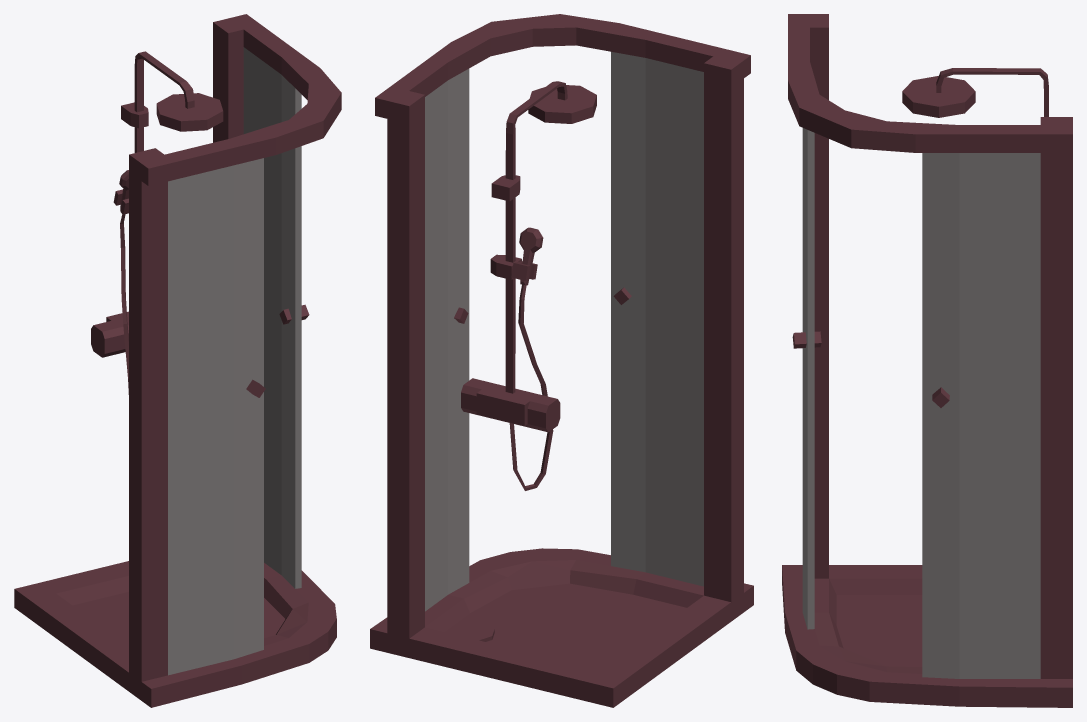
The model's file is shower-enclosure-curved-open.fbx.
3 renders of one model, left to right at view 1: azimuth 30°, elevation 25°; view 2: azimuth 150°, elevation 25°; view 3: azimuth 270°, elevation 25°, orthographic. The views are drawn at different scales.
Parts seen in each view (by area): view 1: shower-enclosure-curved-open; view 2: shower-enclosure-curved-open; view 3: shower-enclosure-curved-open.
Boxes of the visible parts, x1=… form: shower-enclosure-curved-open: x1=14, y1=14, x2=341, y2=707; shower-enclosure-curved-open: x1=370, y1=14, x2=753, y2=707; shower-enclosure-curved-open: x1=782, y1=14, x2=1072, y2=707.
Size of the model in its own units: 0.99 by 2.16 by 0.99.
